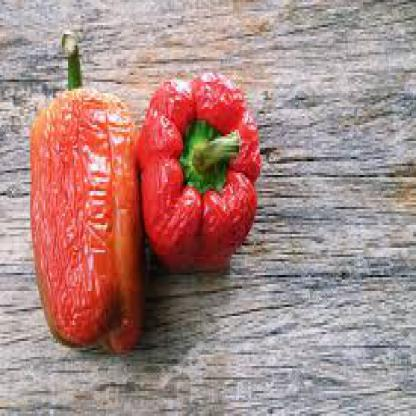capsicum_rotten: (20, 20, 294, 362)
